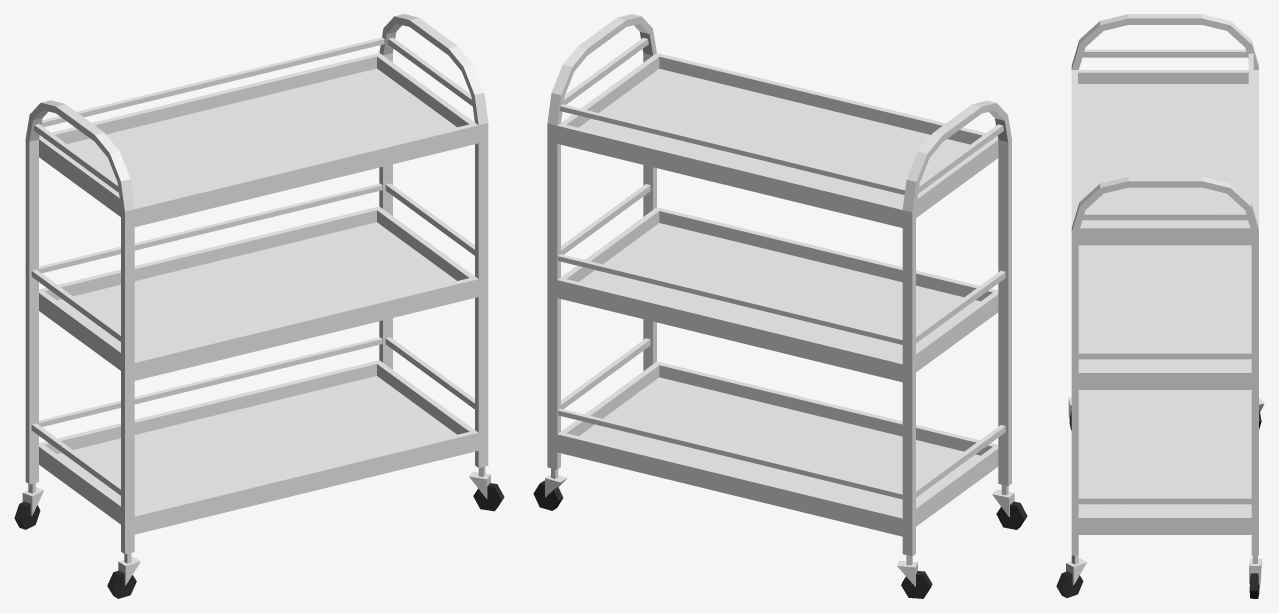
The model's file is SM_Staging_Car_01.fbx.
3 views of the same model, side by side, from view 1: azimuth 30°, elevation 25°; view 2: azimuth 150°, elevation 25°; view 3: azimuth 270°, elevation 25° (orthographic). The views are drawn at different scales.
Parts seen in each view (by area): view 1: SM_Staging_Car_01; view 2: SM_Staging_Car_01; view 3: SM_Staging_Car_01.
Boxes of the visible parts, bbox=[...] form: SM_Staging_Car_01: bbox=[14, 14, 504, 598]; SM_Staging_Car_01: bbox=[533, 14, 1027, 598]; SM_Staging_Car_01: bbox=[1056, 14, 1264, 598].
Size of the model in its own units: 68.55 by 73.23 by 33.39.
